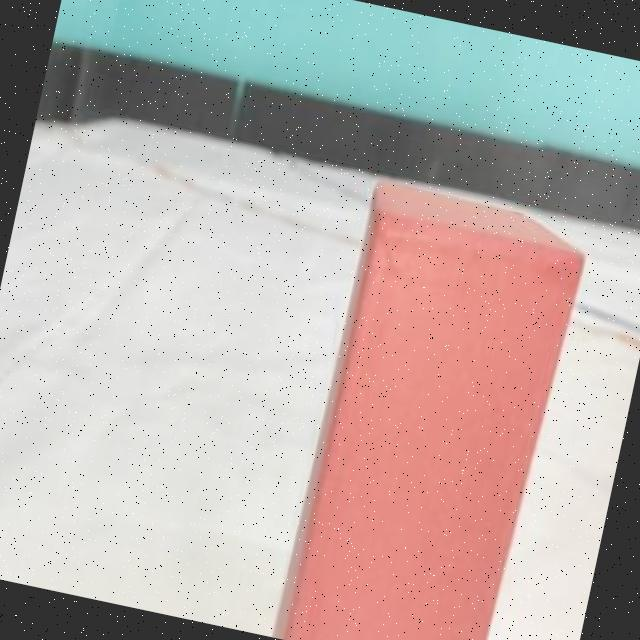greenbox: (275, 181, 578, 640)
